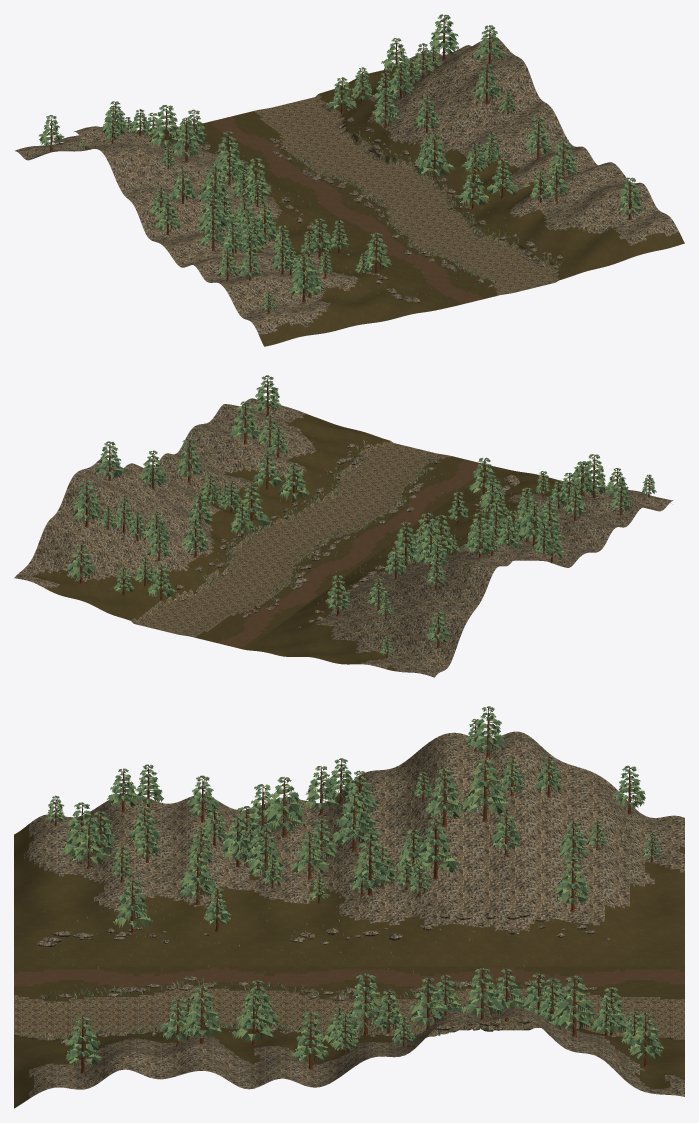
Rendered from delta.glb.
3 views of the same model, one above another, from view 1: azimuth 30°, elevation 25°; view 2: azimuth 150°, elevation 25°; view 3: azimuth 270°, elevation 25° (orthographic). The views are drawn at different scales.
Visible parts, largest first — view 1: delta; view 2: delta; view 3: delta.
Part boxes in pixels (x1,y1,x2,y2): delta: (15,14,684,346); delta: (14,375,673,677); delta: (14,706,684,1108).
Bounding box in the file's own units: 65 × 17.28 × 67.
Materials: 11 (5 with a texture image).
